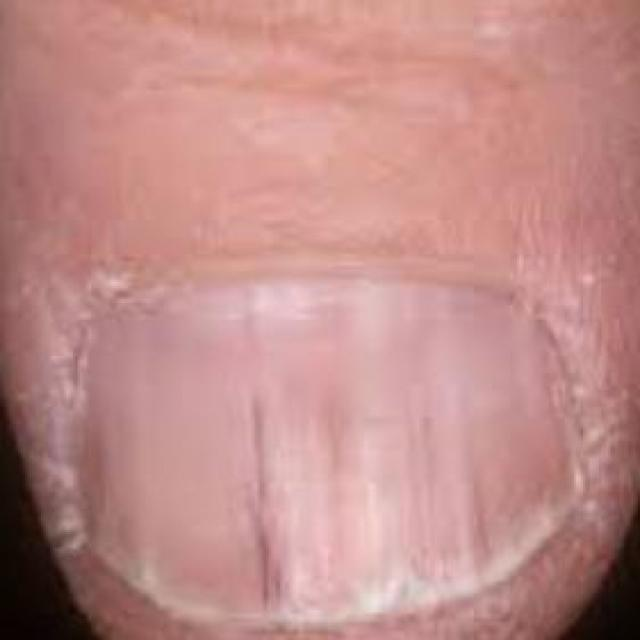Nail: (70, 276, 591, 627)
